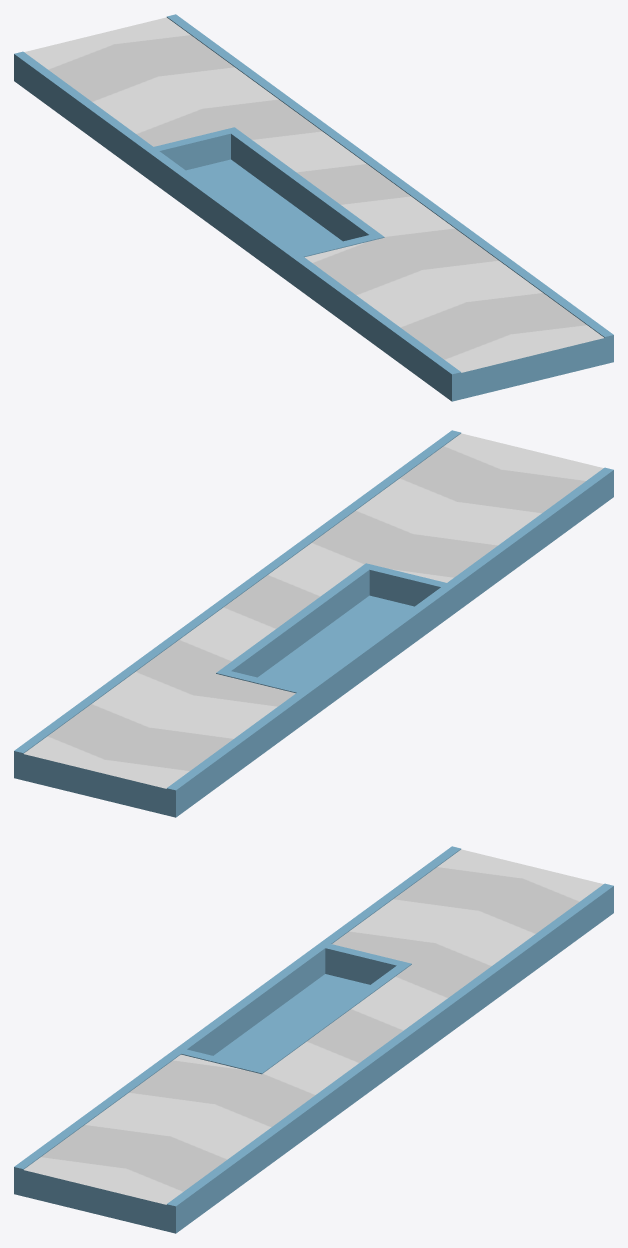
Rendered from platform_POOLl (2).fbx.
3 views of the same model, one above another, from view 1: azimuth 30°, elevation 25°; view 2: azimuth 150°, elevation 25°; view 3: azimuth 330°, elevation 25° (orthographic).
Parts seen in each view (by area): view 1: platformPool; view 2: platformPool; view 3: platformPool.
Boxes of the visible parts, x1,y1,x2,y2 form: platformPool: (14, 14, 613, 401); platformPool: (14, 430, 613, 817); platformPool: (14, 846, 613, 1233).
Size of the model in its own units: 6.41 by 1.03 by 30.
